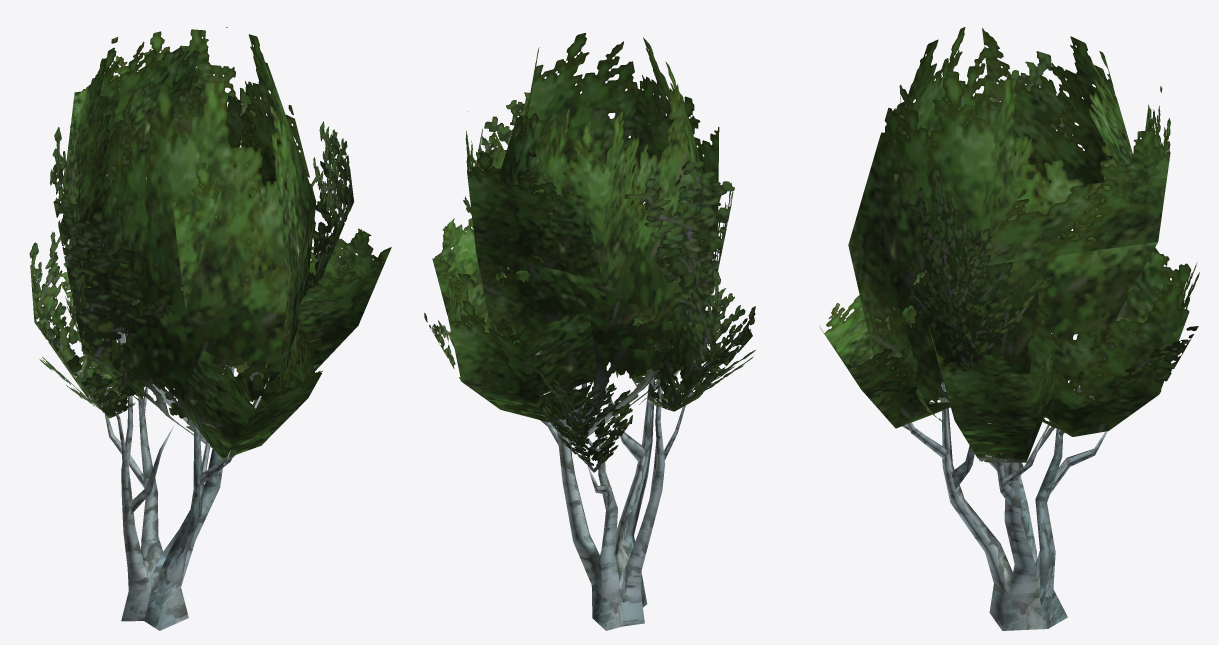
Rendered from town_white_birch01.fbx.
3 renders of one model, left to right at view 1: azimuth 30°, elevation 25°; view 2: azimuth 150°, elevation 25°; view 3: azimuth 270°, elevation 25°, orthographic. The views are drawn at different scales.
Parts seen in each view (by area): view 1: Material_#6642; view 2: Material_#6642; view 3: Material_#6642.
Part boxes in pixels (left/top/right/bottom): Material_#6642: left=29, top=27, right=391, bottom=630; Material_#6642: left=424, top=33, right=755, bottom=630; Material_#6642: left=819, top=27, right=1199, bottom=630.
Bounding box in the file's own units: 7.07 × 11.82 × 7.03.
